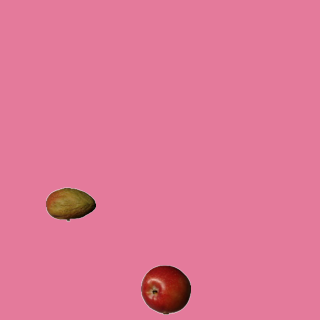Apple Braeburn: (140, 264, 190, 314)
Papaya: (45, 179, 95, 229)
